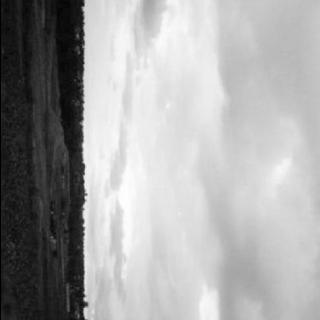Stratocumulus: (94, 1, 316, 320)
